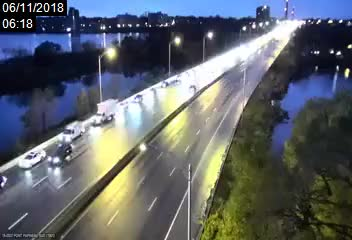personal_car: (19, 148, 48, 169), (48, 144, 74, 164), (63, 121, 86, 143)
truck: (90, 101, 118, 124)
